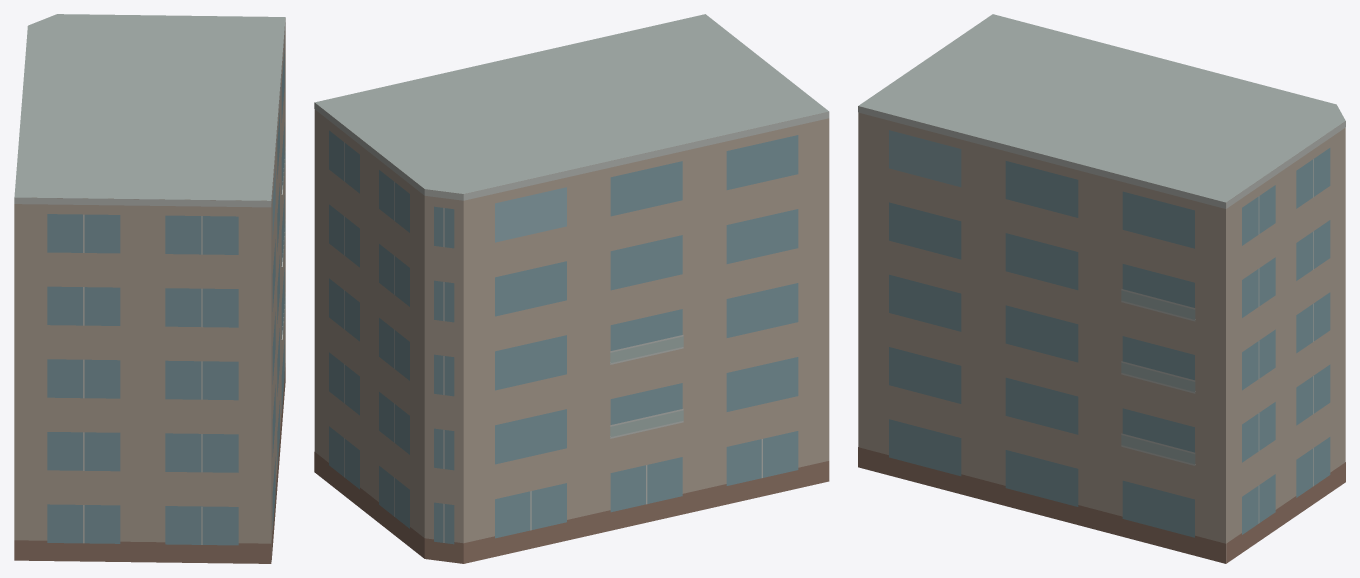
File: survey-upis-33011084.glb
3 renders of one model, left to right at view 1: azimuth 30°, elevation 25°; view 2: azimuth 150°, elevation 25°; view 3: azimuth 270°, elevation 25°, orthographic. The views are drawn at different scales.
Parts seen in each view (by area): view 1: survey-upis-33011084.tmp; view 2: survey-upis-33011084.tmp; view 3: survey-upis-33011084.tmp.
Boxes of the visible parts, x1,y1,x2,y2 form: survey-upis-33011084.tmp: (14, 14, 285, 563); survey-upis-33011084.tmp: (314, 14, 829, 563); survey-upis-33011084.tmp: (858, 14, 1345, 563).
Size of the model in its own units: 15.12 by 13.5 by 16.52.
